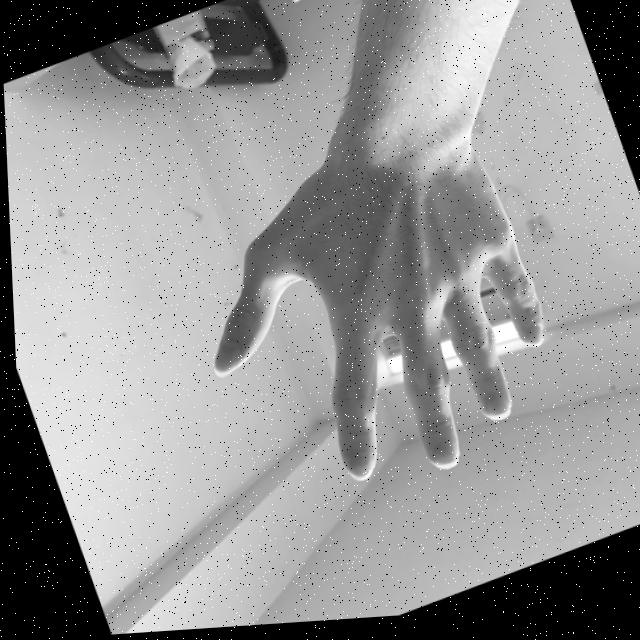hand: (161, 127, 583, 546)
